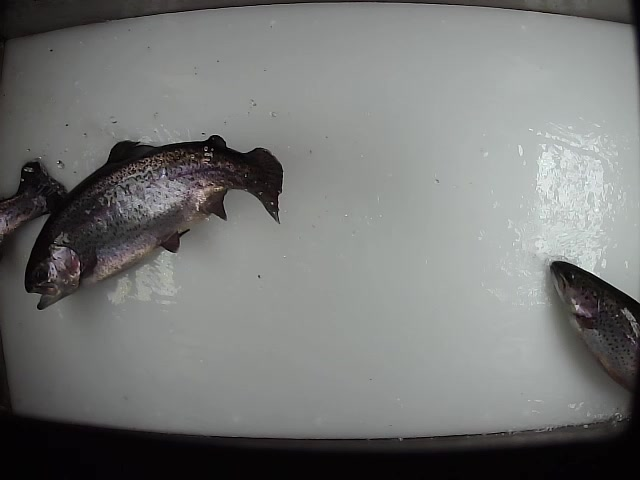fish: (22, 130, 285, 315), (546, 257, 640, 397), (1, 158, 70, 242)
